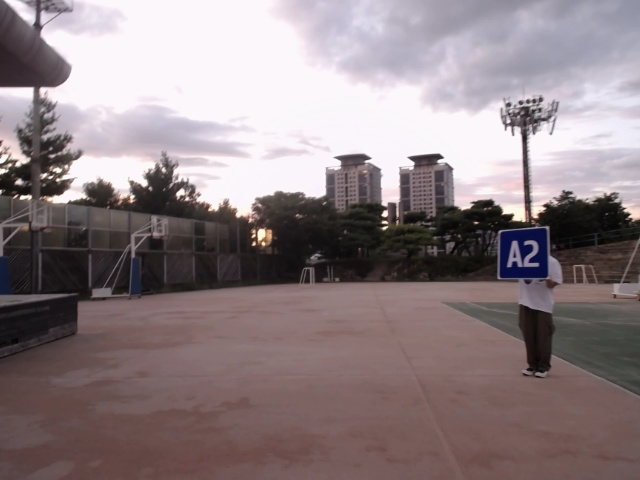delivery_a2: (499, 227, 549, 278)
